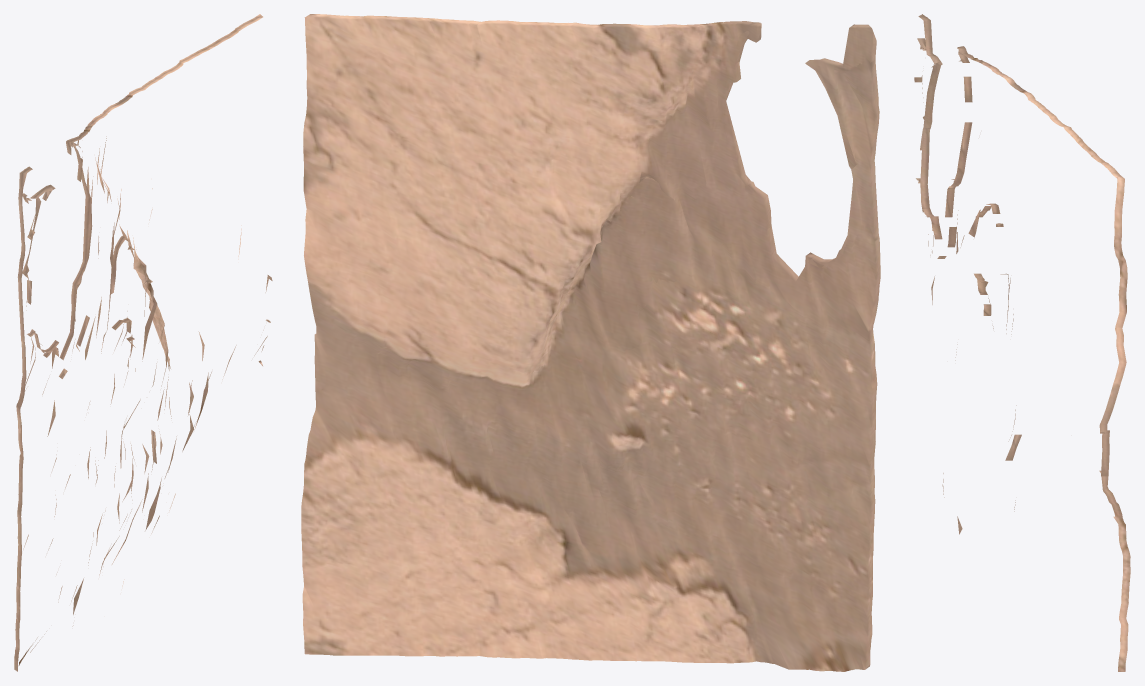
3 views of the same model, side by side, from view 1: azimuth 30°, elevation 25°; view 2: azimuth 150°, elevation 25°; view 3: azimuth 270°, elevation 25° (orthographic). The views are drawn at different scales.
Bounding box in the file's own units: 0.5223 × 0.7275 × 0.296.
1 material, 1 textured.
